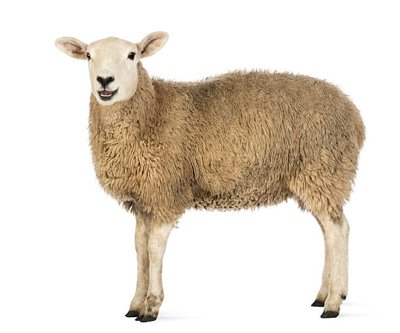koyun: (54, 31, 365, 322)
